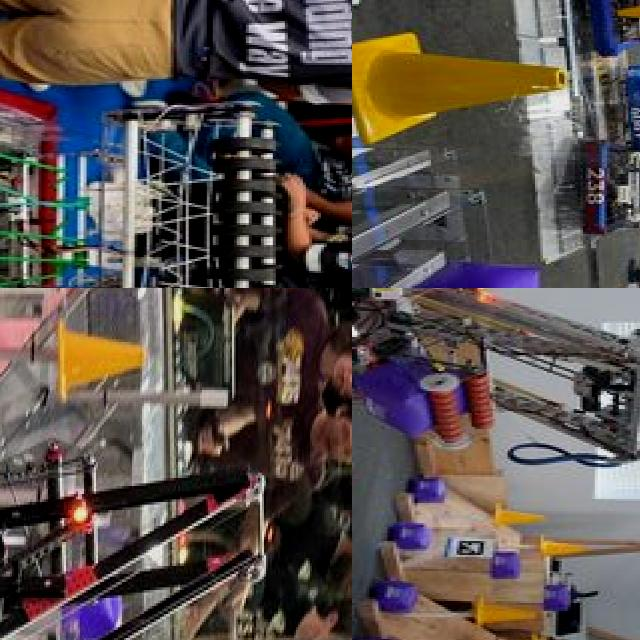FRC-Robots: (0, 367, 302, 640), (352, 288, 640, 565), (0, 98, 307, 288), (564, 150, 640, 252), (559, 0, 640, 59), (588, 72, 640, 146)
